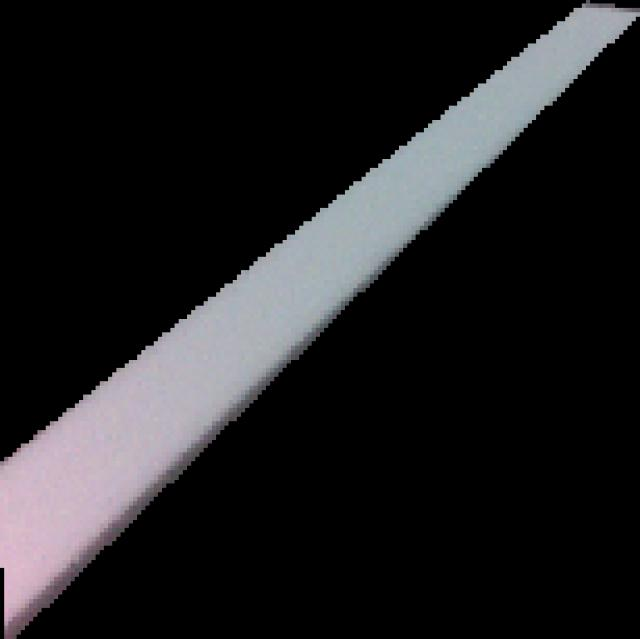lane: (0, 0, 640, 639)
